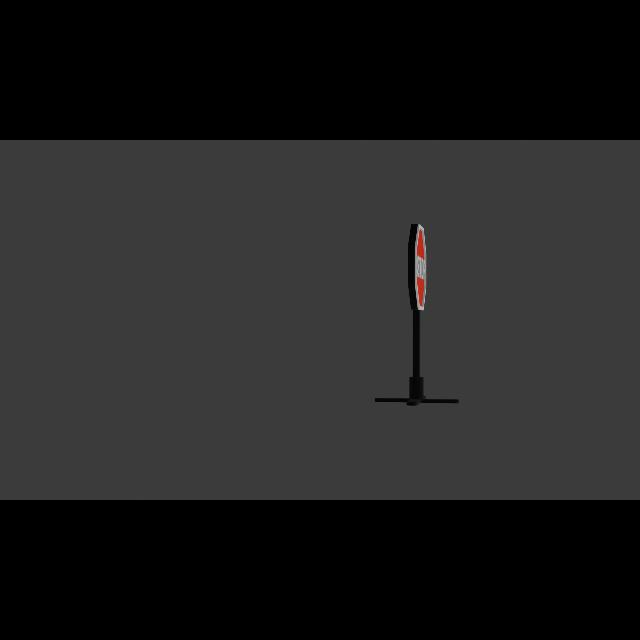sign_stop: (408, 223, 431, 313)
